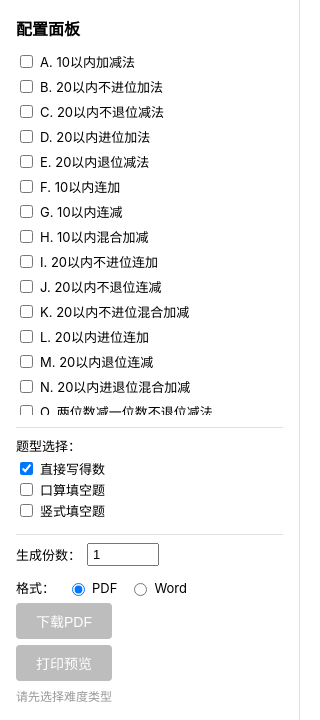
Scenario: ConfigPanel › hides count input and clears config when level is unchecked
This screenshot has width=320, height=720.
Step 1. Click the checkbox with test id "check-a" → (26, 62), box [20,55,33,68]
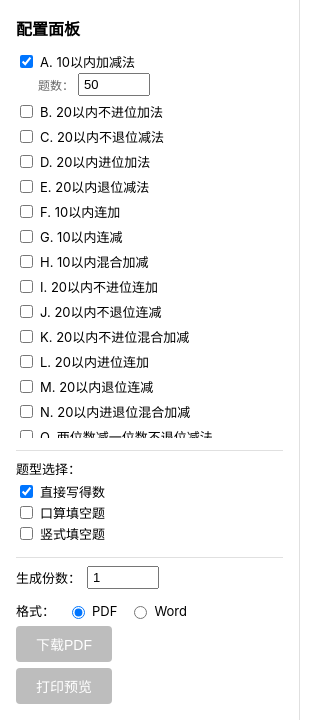
expect the number field with test id "count-a" is shown: met, box [78,73,150,96]
Step 2. Click the checkbox with test id "check-a" → (26, 62), box [20,55,33,68]
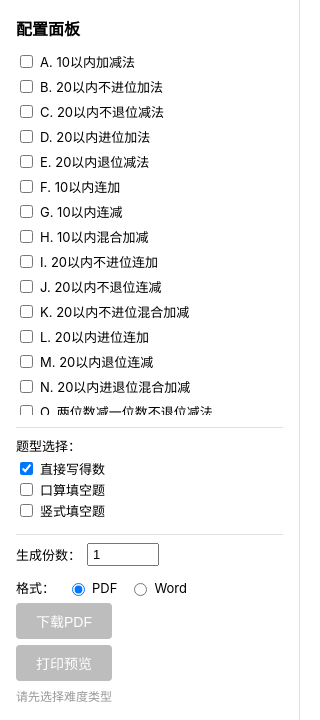
expect the number field with test id "count-a" is gone: met
